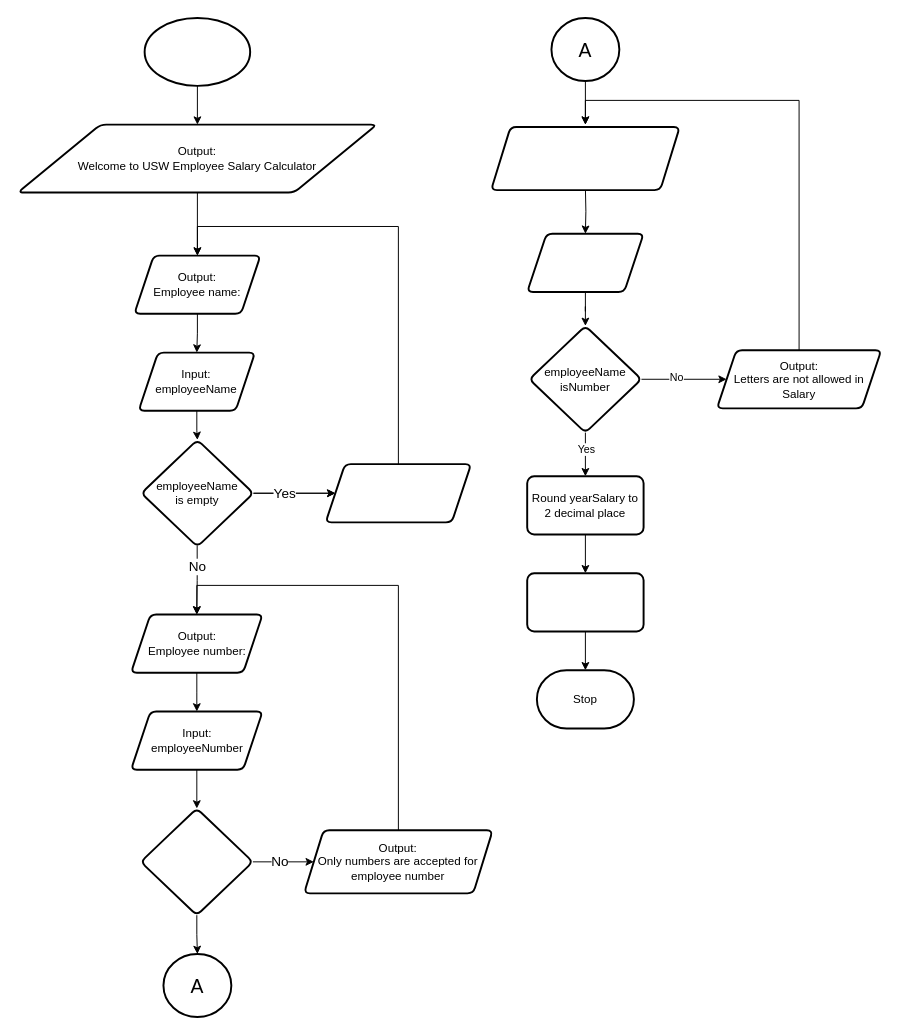
This 898x1034 diagram has some shape labels left out. Each missing label, with the box of its shape:
employeeNumber isNumber: (139, 807, 253, 916)
Input: yearlySalary: (526, 232, 644, 292)
Output: Empty inputs are not accepted.: (324, 463, 472, 523)
Output: Yearly salary:: (490, 126, 680, 191)
Return: employeeName employeeNumber, yearlySalary: (526, 572, 644, 632)
UserInterface.java userInterfaceLoop: (143, 16, 251, 86)
